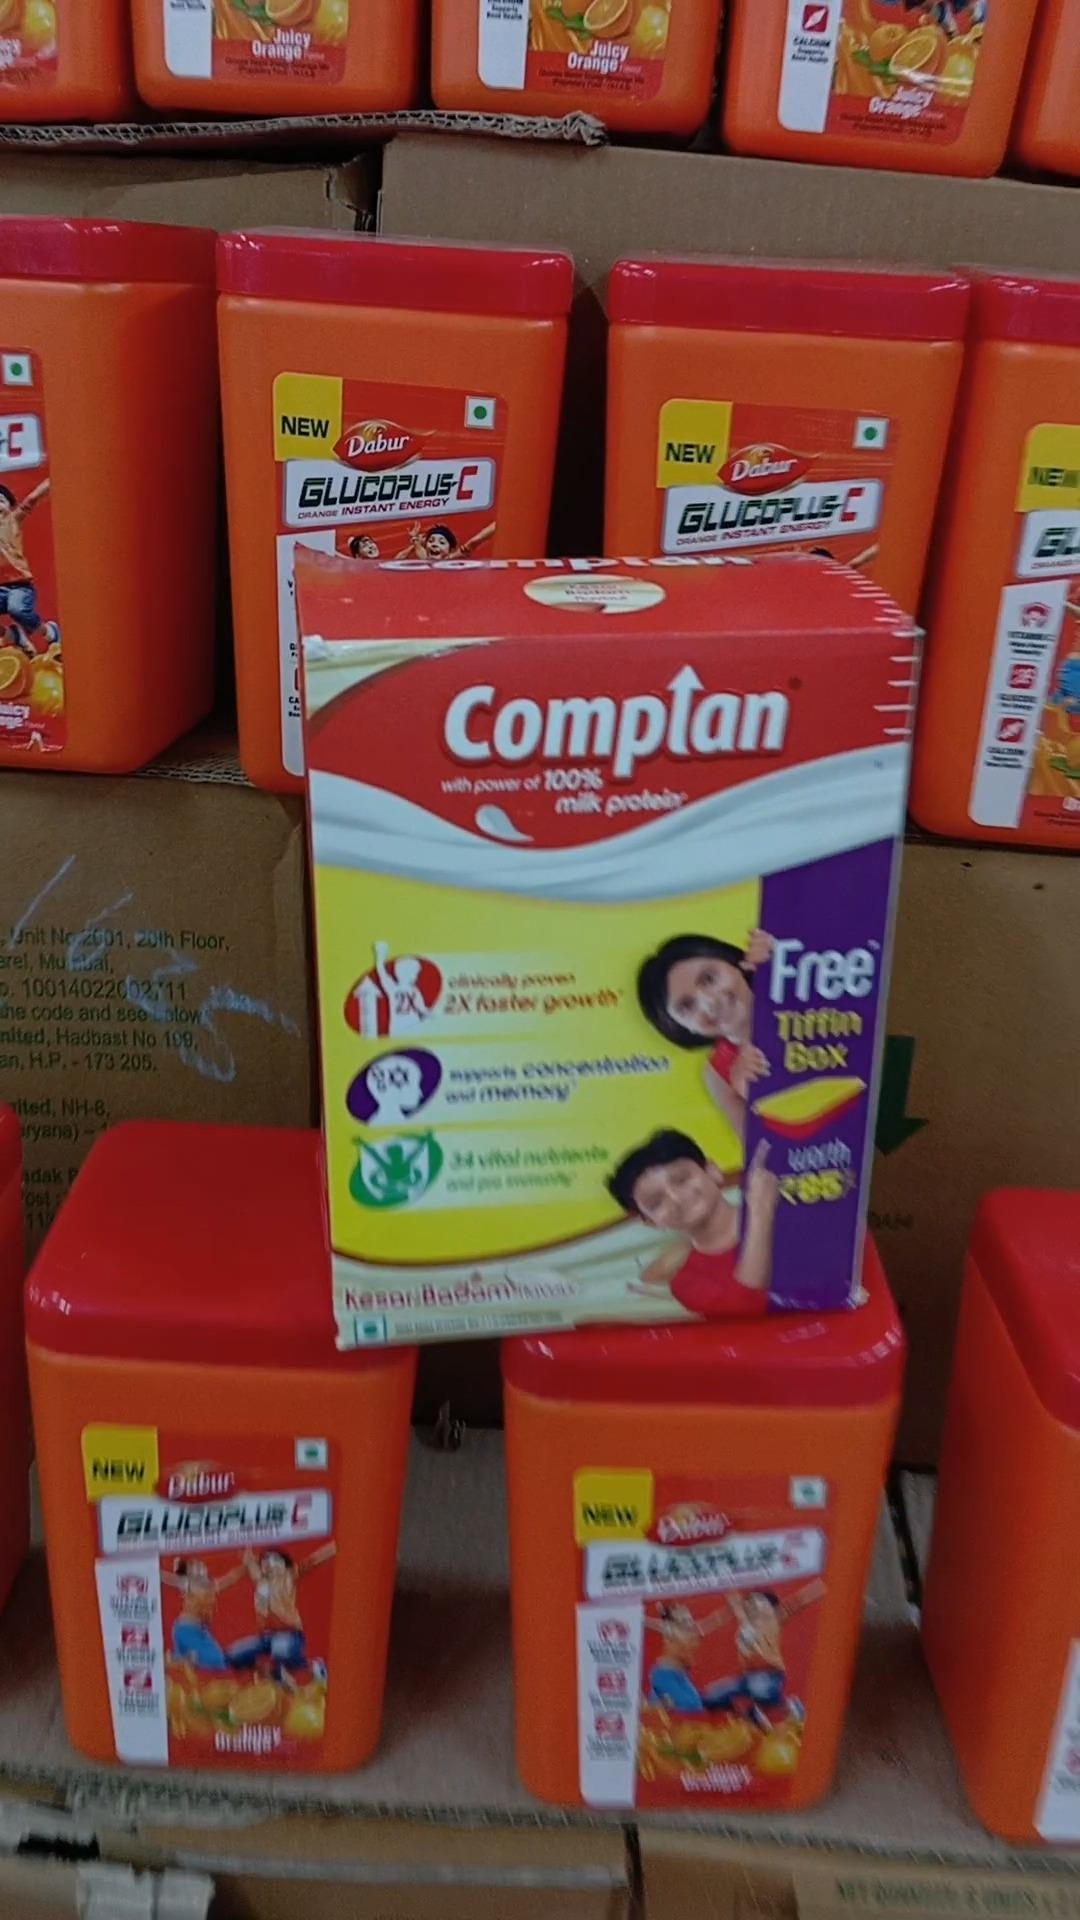COMPLAN_KESAR_BADAM_500_GMS_PACK: (310, 640, 932, 1360)
